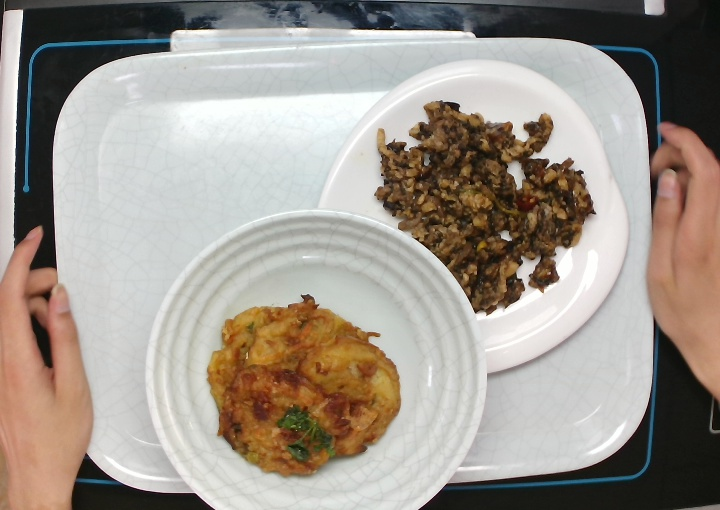JYsf-Da_Tang_Wan: (139, 206, 491, 507)
JYsf-Mian_Pan: (314, 53, 632, 381)
